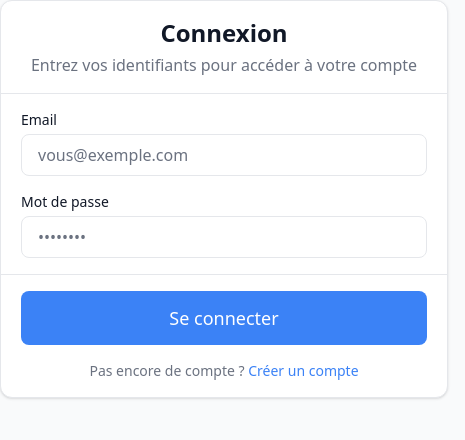
LoginForm › shows error for password too short
Type "test@example.com" into the field labelled "Email" at (224, 155), box [21,134,427,176]
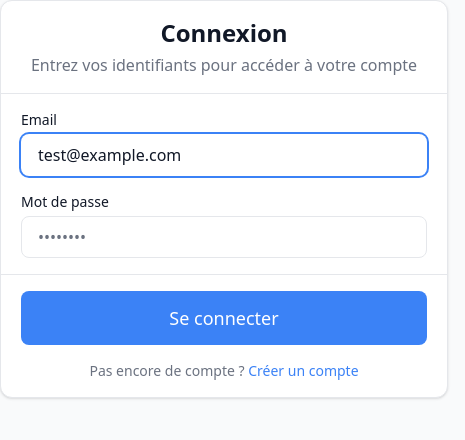
Type "12345" into the password field labelled "Mot de passe" at (224, 237), box [21,216,427,258]
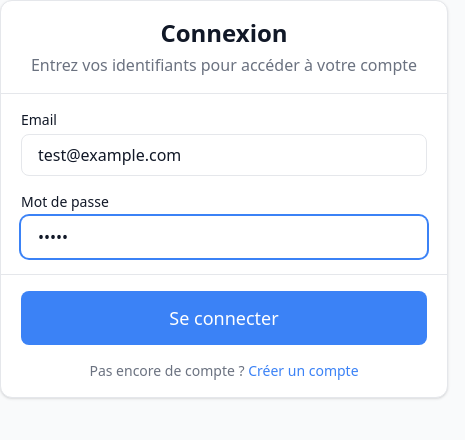
// Submit the form
Submit the form "Se connecter"
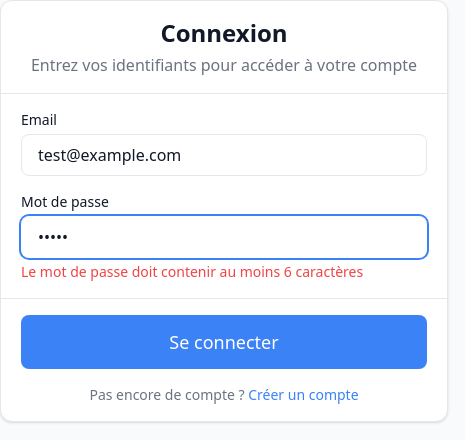
Check: the text "Le mot de passe doit contenir au moins 6 caractères" is shown, box [21,262,363,281]
